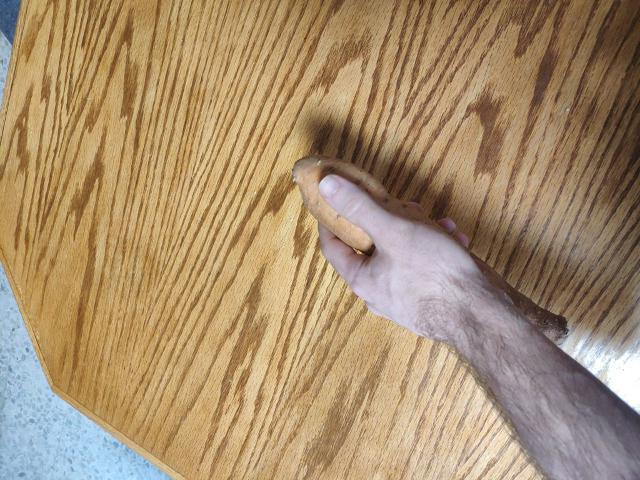sweet_potato: (286, 148, 572, 338)
